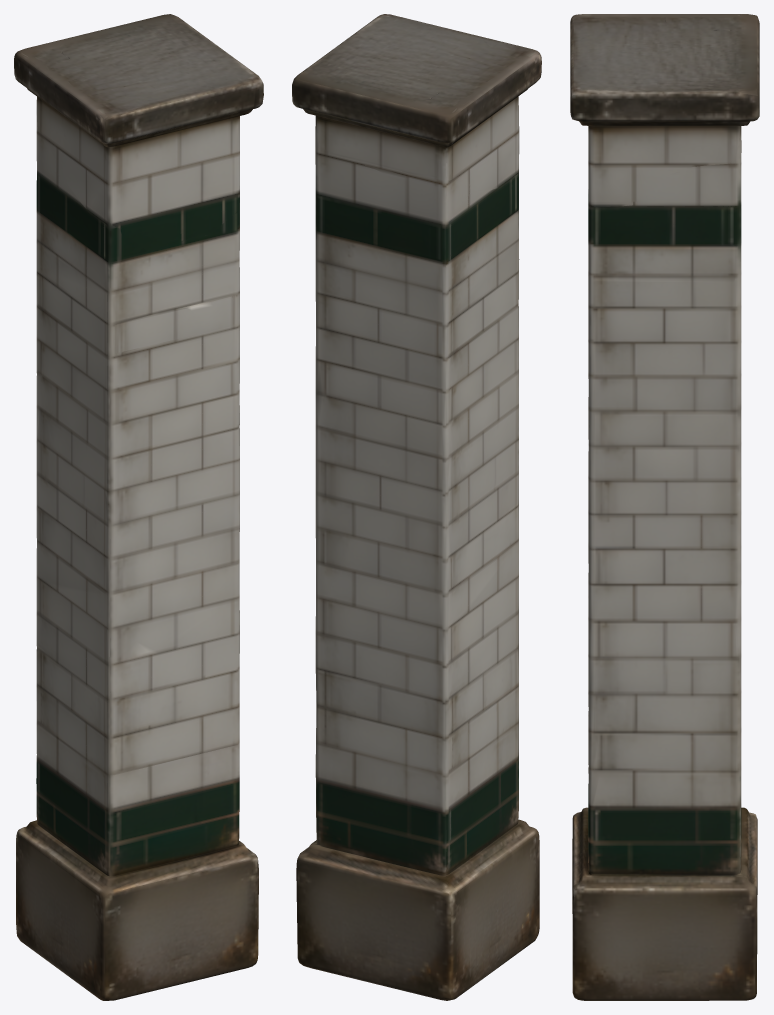
The model's file is game.glb.
The picture shows the model from 3 angles, left to right: view 1: azimuth 30°, elevation 25°; view 2: azimuth 150°, elevation 25°; view 3: azimuth 270°, elevation 25°; orthographic projection. The views are drawn at different scales.
Visible parts, largest first — view 1: convert; view 2: convert; view 3: convert.
Boxes of the visible parts, bbox=[...] form: convert: bbox=[14, 14, 263, 1000]; convert: bbox=[292, 14, 541, 1000]; convert: bbox=[570, 14, 759, 1000].
Bounding box in the file's own units: 0.2211 × 1.16 × 0.2192.
1 material, 1 textured.
